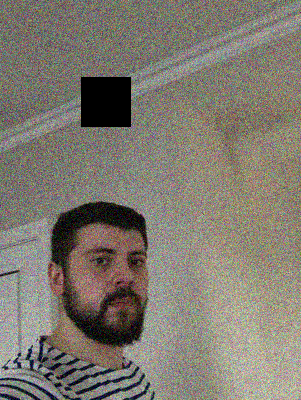without_mask: (76, 236, 149, 349)
